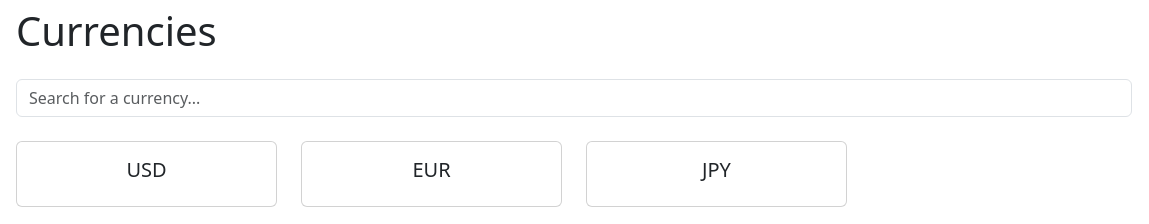
Test case: CurrenciesPage › shows fallback message when no currency matches search
Type "xyz" into the field with placeholder "Search for a currency...". click: (574, 98)
box: [16,79,1132,117]
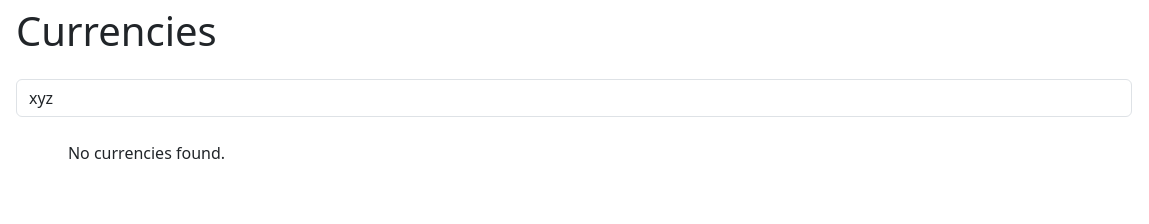
Expected: the text "No currencies found." is shown, [68,142,225,164]
